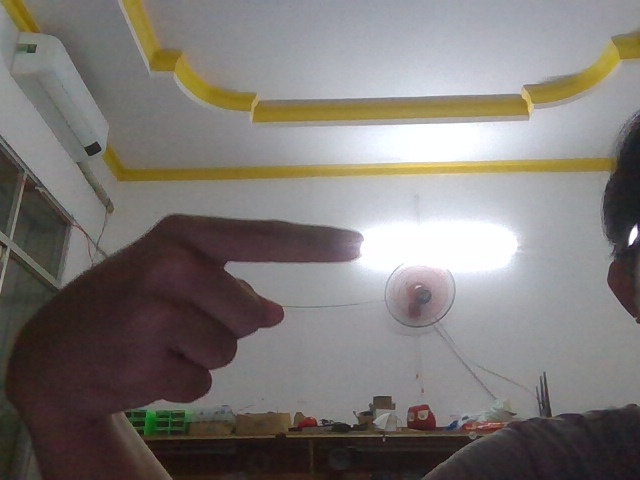turn_left: (2, 206, 371, 431)
